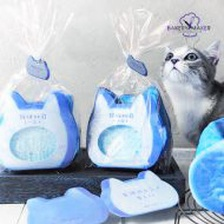snack: (81, 0, 181, 180), (0, 0, 85, 177)
